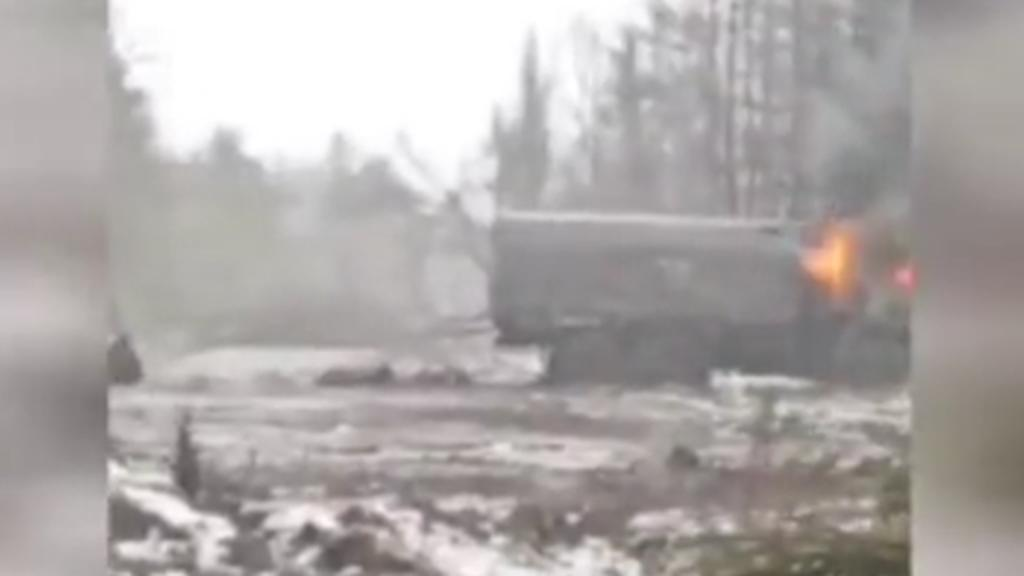TRUCK: (480, 204, 906, 386)
